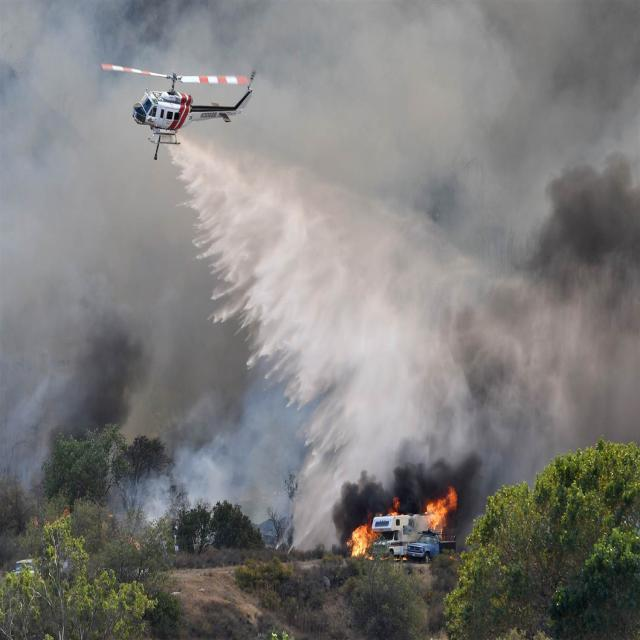Fire: (426, 488, 458, 533), (350, 524, 373, 558)
Smoke: (270, 1, 640, 399), (54, 130, 350, 536), (0, 0, 125, 519)
